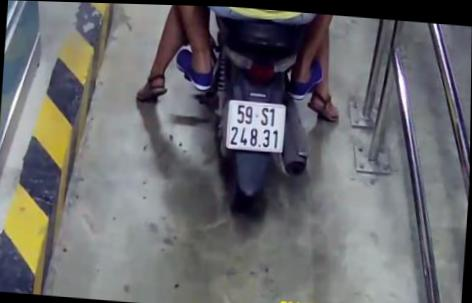LP: (224, 96, 289, 156)
